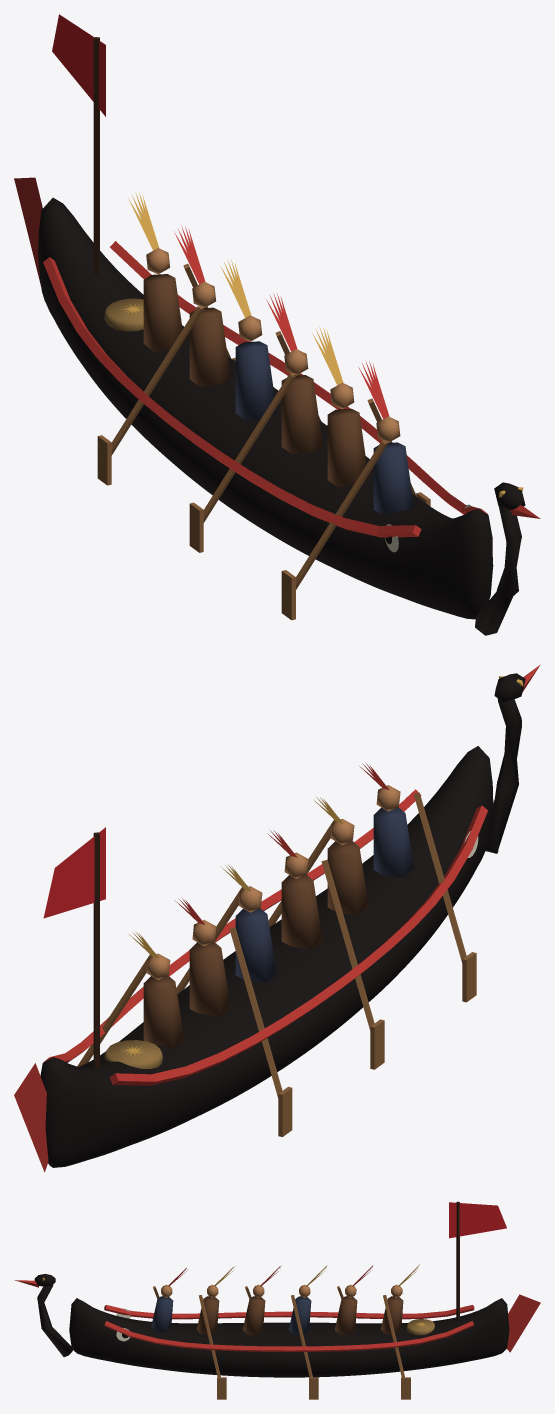
Rendered from thuyen_ngo.glb.
The picture shows the model from 3 angles, top to bottom: view 1: azimuth 30°, elevation 25°; view 2: azimuth 150°, elevation 25°; view 3: azimuth 270°, elevation 25°; orthographic projection. The views are drawn at different scales.
Parts seen in each view (by area): view 1: than, vien-1, nguoi3, nguoi2, nguoi4, nguoi1, nguoi5, co.001, nguoi0, co, vien1, can_co (+5 smaller); view 2: than, vien-1, co.001, co, nguoi2, nguoi4, nguoi5, nguoi0, nguoi3, nguoi1, vien1, duoi (+10 smaller); view 3: than, vien1, vien-1, co.001, duoi, co, nguoi2, nguoi4, nguoi0, nguoi3, nguoi1, nguoi5 (+5 smaller).
Boxes of the visible parts, <box> form: than: <box>38,197,493,619</box>; vien-1: <box>43,257,421,537</box>; nguoi3: <box>235,341,276,420</box>; nguoi2: <box>281,375,322,454</box>; nguoi4: <box>189,307,230,386</box>; nguoi1: <box>327,408,368,487</box>; nguoi5: <box>143,274,184,351</box>; co.001: <box>52,14,105,116</box>; nguoi0: <box>373,442,413,514</box>; co: <box>475,506,521,635</box>; vien1: <box>110,241,487,514</box>; can_co: <box>93,37,99,274</box>; than: <box>40,746,493,1167</box>; vien-1: <box>109,805,487,1085</box>; co.001: <box>43,827,105,918</box>; co: <box>485,698,521,853</box>; nguoi2: <box>281,874,322,948</box>; nguoi4: <box>189,942,230,1016</box>; nguoi5: <box>143,975,184,1047</box>; nguoi0: <box>373,807,413,877</box>; nguoi3: <box>235,908,276,982</box>; nguoi1: <box>327,841,368,914</box>; vien1: <box>43,789,421,1062</box>; duoi: <box>14,1063,48,1172</box>; than: <box>69,1298,509,1377</box>; vien1: <box>104,1321,474,1351</box>; vien-1: <box>104,1305,474,1319</box>; co.001: <box>449,1202,506,1238</box>; duoi: <box>506,1294,540,1352</box>; co: <box>37,1284,72,1357</box>; nguoi2: <box>242,1296,265,1335</box>; nguoi4: <box>334,1296,357,1335</box>; nguoi0: <box>151,1296,173,1332</box>; nguoi3: <box>288,1296,311,1335</box>; nguoi1: <box>196,1296,219,1334</box>; nguoi5: <box>381,1296,403,1334</box>.
Size of the model in its own units: 1.75 by 3.14 by 8.59.
